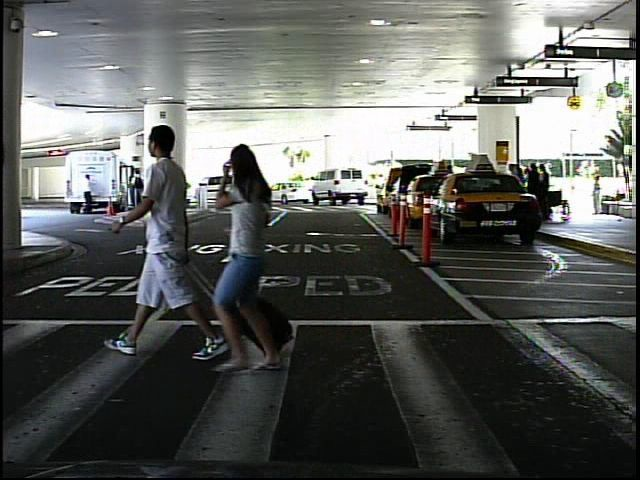person: (123, 104, 217, 364), (218, 133, 316, 379), (78, 171, 97, 221), (588, 172, 607, 218)
